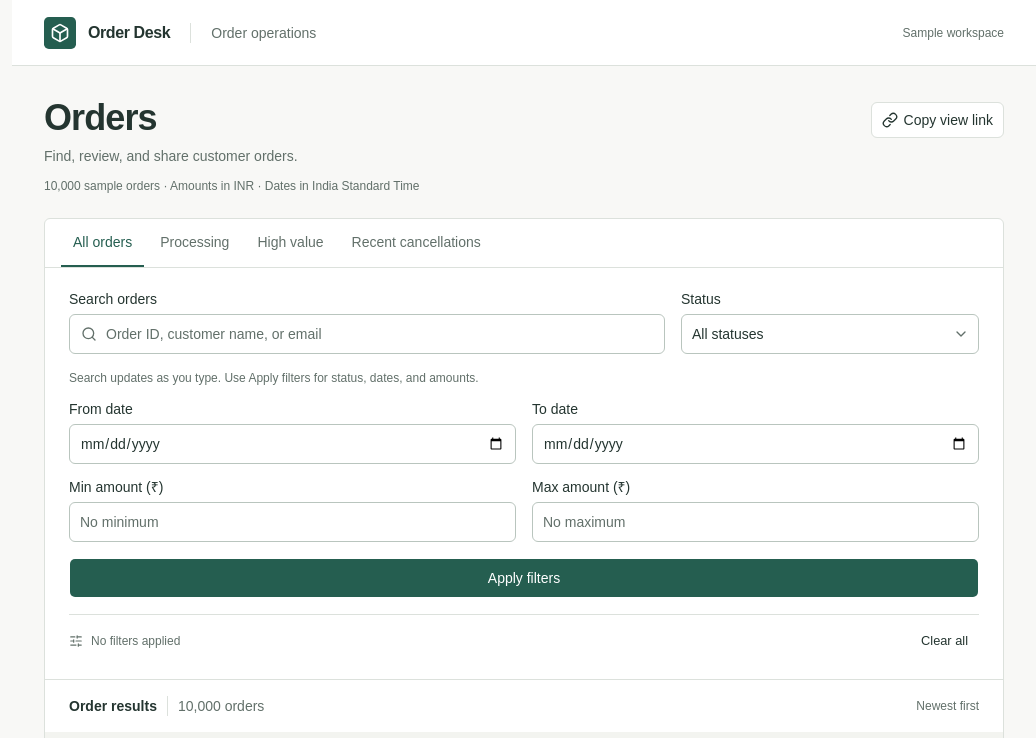
Scenario: a late previous response cannot replace current results (failure: false)
The width and height of the screenshot is (1036, 738).
Type "ORD-00001" into the search field labelled "Search orders" at (367,334), box 69,314 -> 665,354
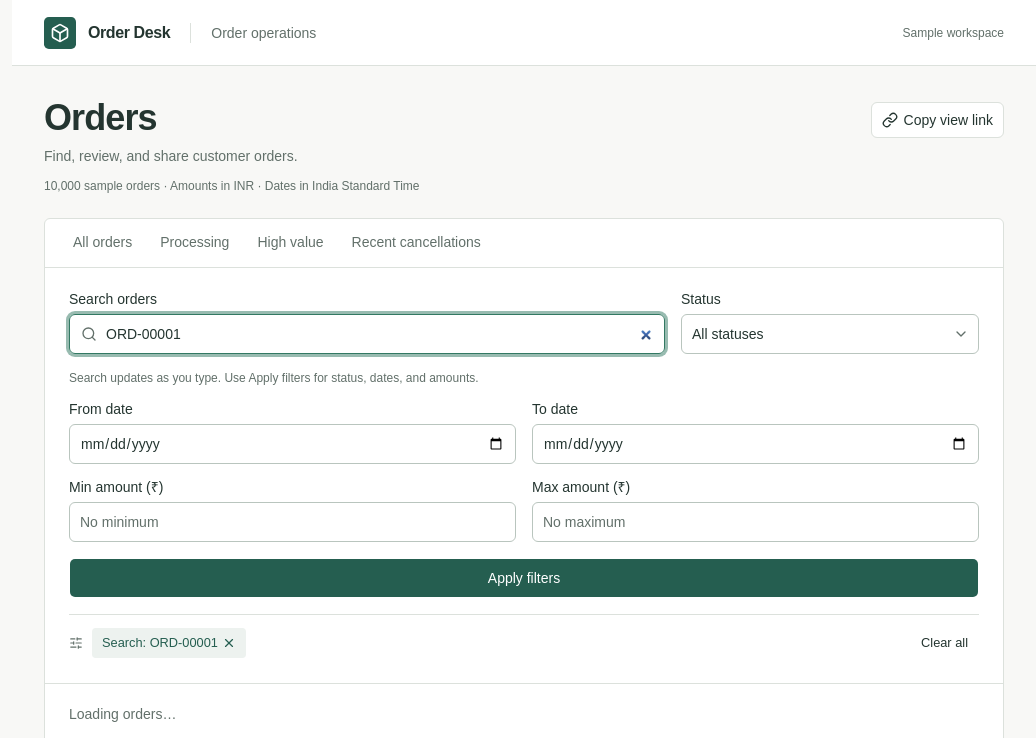
Replace the text in the search field labelled "Search orders" with "ORD-00002" at (367,334), box 69,314 -> 665,354
(page scrolled)
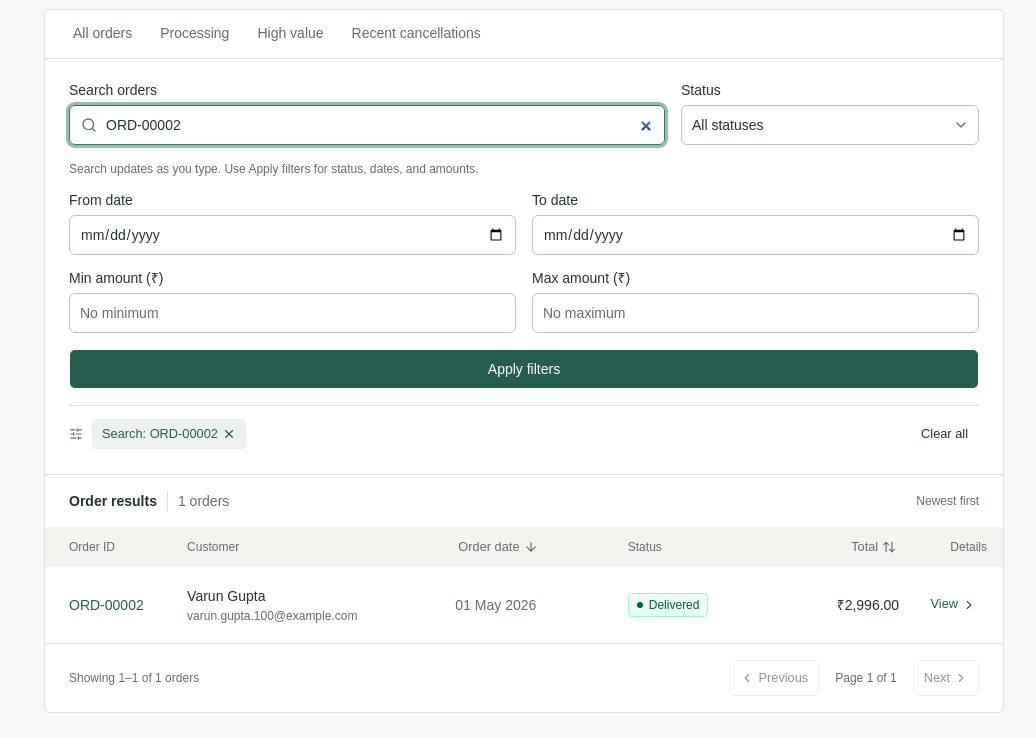
Expected: the text "ORD-00002" is shown, 45,566 -> 179,642
